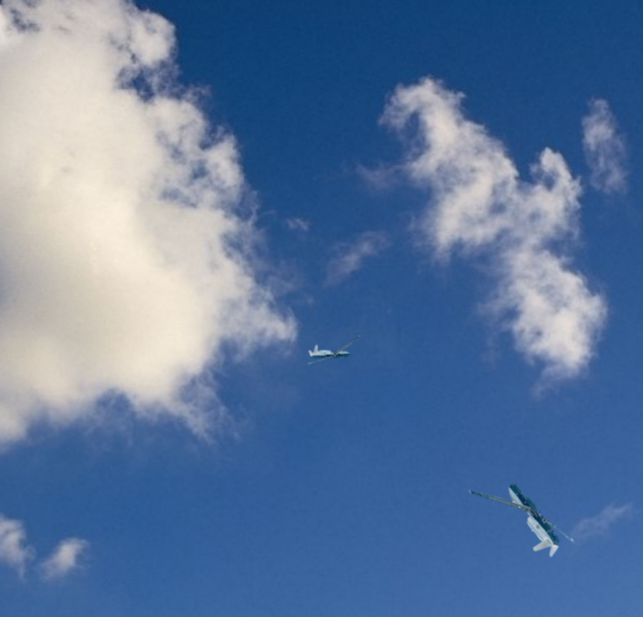military drone: (468, 483, 578, 557), (307, 335, 360, 366)
